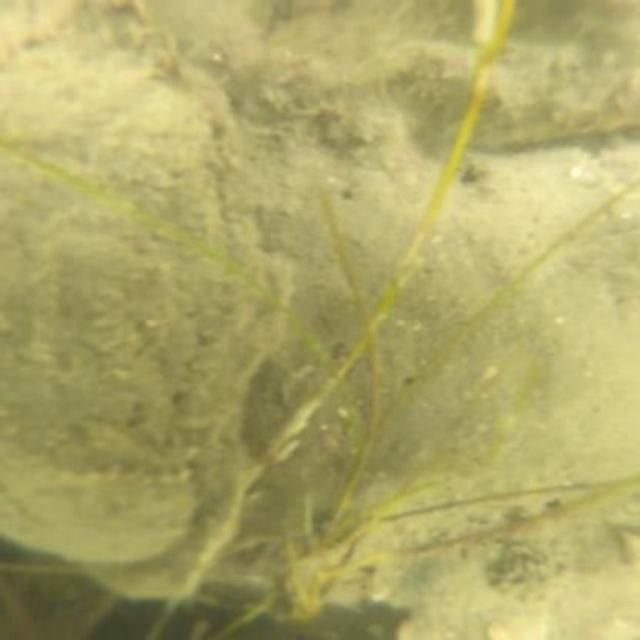Oyster-Closed: (2, 457, 212, 559)
Oyster-Open: (0, 5, 294, 606)
